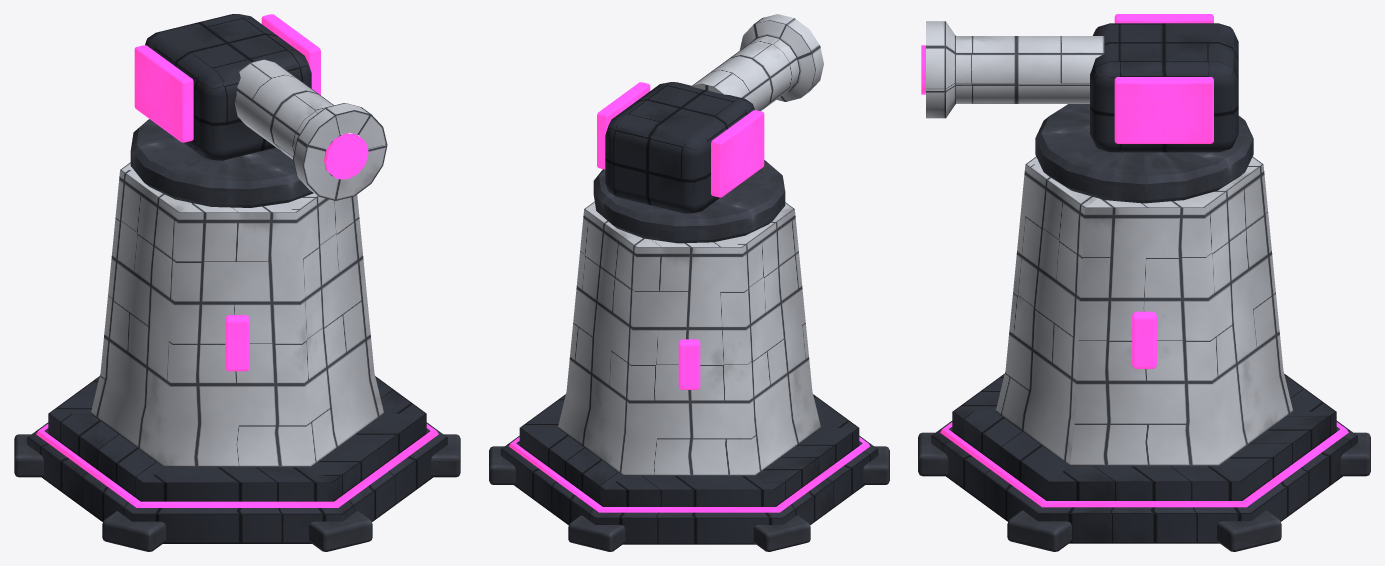
The model's file is sf_laser.glb.
The picture shows the model from 3 angles, left to right: view 1: azimuth 30°, elevation 25°; view 2: azimuth 150°, elevation 25°; view 3: azimuth 270°, elevation 25°; orthographic projection. The views are drawn at different scales.
Visible parts, largest first — view 1: Base, Turret; view 2: Base, Turret; view 3: Base, Turret.
Boxes of the visible parts, x1,y1,x2,y2 form: Base: [14, 162, 460, 551]; Turret: [130, 14, 387, 207]; Base: [489, 201, 889, 551]; Turret: [593, 14, 823, 243]; Base: [918, 156, 1370, 551]; Turret: [921, 14, 1253, 203].
Bounding box in the file's own units: 0.8425 × 0.9775 × 0.9128.
4 materials, 4 textured.
